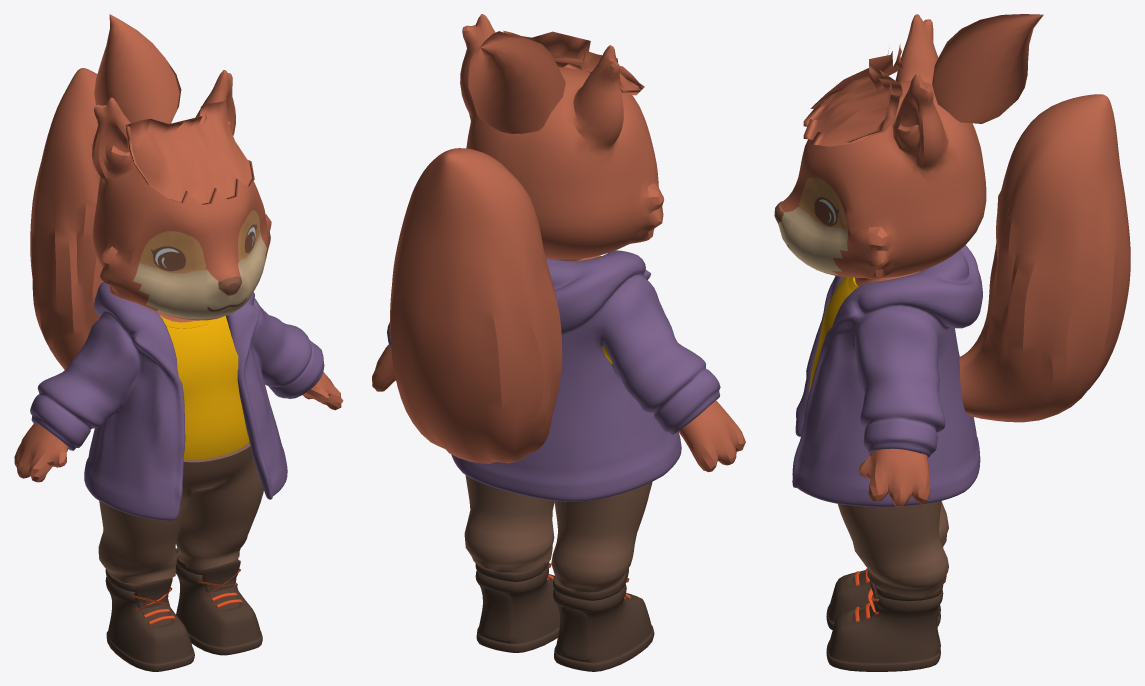
File: mim-game-ready-v1-source.glb
3 views of the same model, side by side, from view 1: azimuth 30°, elevation 25°; view 2: azimuth 150°, elevation 25°; view 3: azimuth 270°, elevation 25° (orthographic). The views are drawn at different scales.
Visible parts, largest first — view 1: main; view 2: main; view 3: main.
Boxes of the visible parts, x1,y1,x2,y2 form: main: (14,14,343,671); main: (372,14,745,671); main: (774,14,1130,671).
Size of the model in its own units: 0.9129 by 1.58 by 0.8191.
9 materials, 1 textured.
